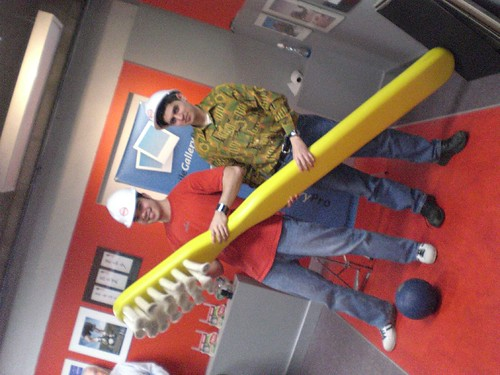person hardhat: (107, 189, 161, 228), (145, 89, 194, 131)
